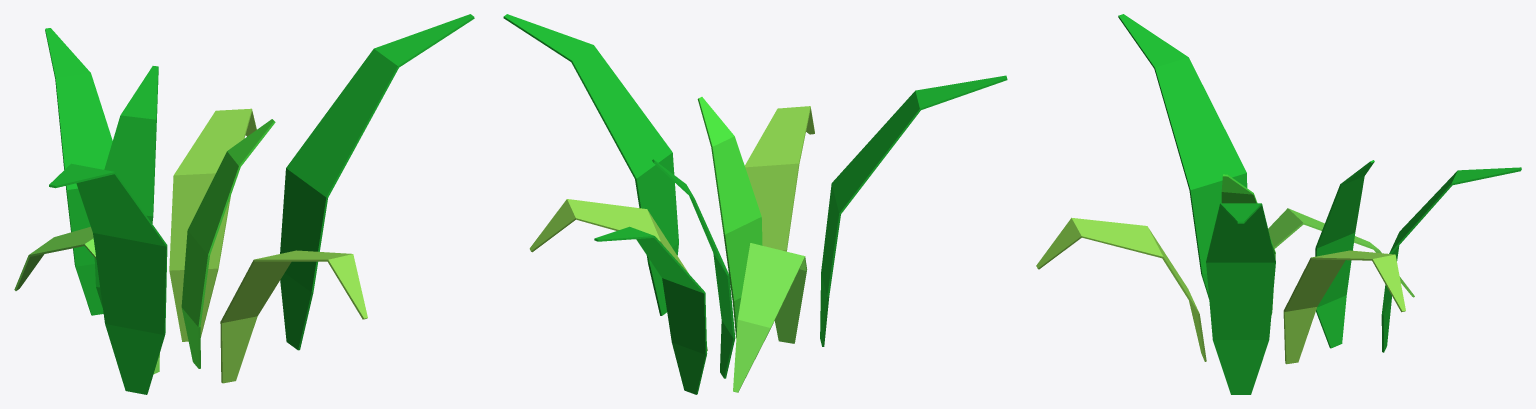
File: grass.fbx
3 renders of one model, left to right at view 1: azimuth 30°, elevation 25°; view 2: azimuth 150°, elevation 25°; view 3: azimuth 270°, elevation 25°, orthographic. The views are drawn at different scales.
Visible parts, largest first — view 1: Plane.002; view 2: Plane.002; view 3: Plane.002.
Boxes of the visible parts, box(x1,y1,x2,y2) form: Plane.002: box(14, 14, 474, 394); Plane.002: box(503, 14, 1007, 394); Plane.002: box(1036, 14, 1521, 394).
Size of the model in its own units: 1743 by 978 by 1720.
